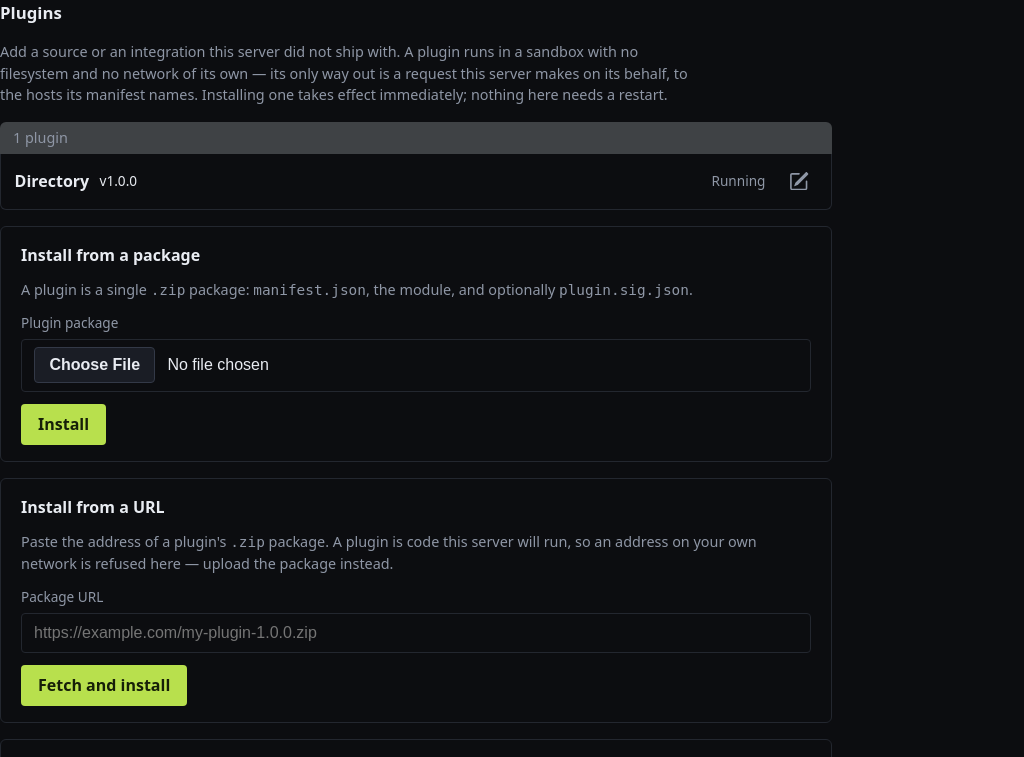
it: uninstalling a Sign-in provider › lists by name the users it will delete, says so plainly, and uninstalls nothing yet
This screenshot has width=1024, height=757.
Click the button with test id "plugin-edit-directory" at (799, 181), box [781,163,817,199]
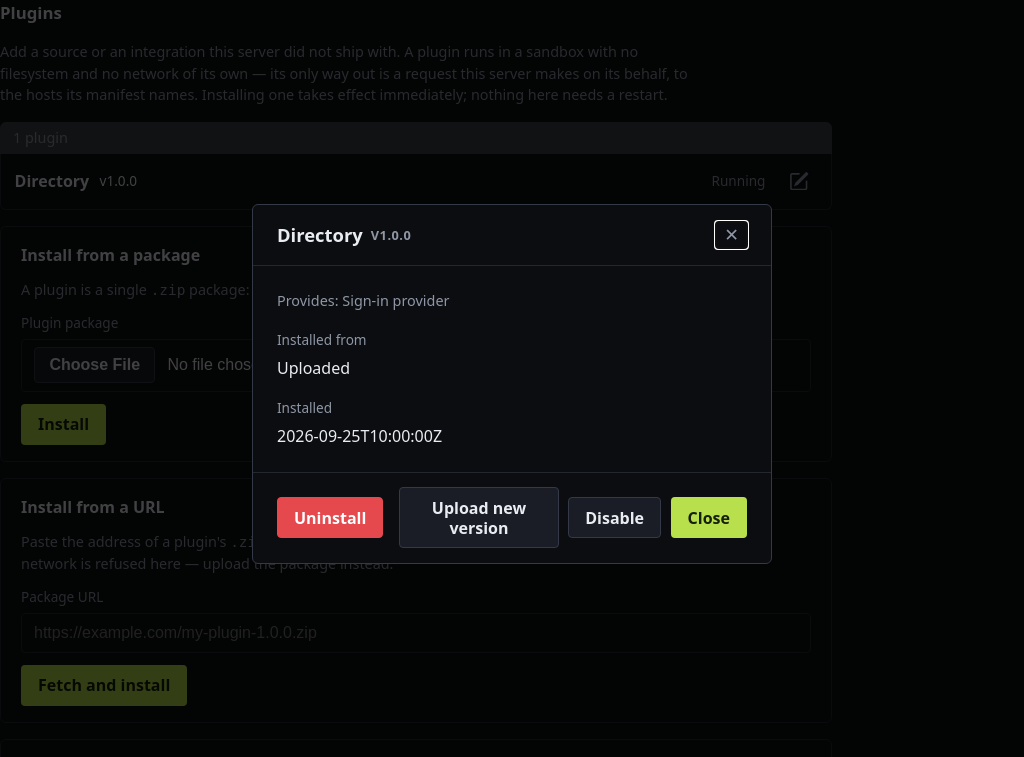
Click the button with test id "plugin-uninstall-directory" at (330, 518), box [277,497,383,538]
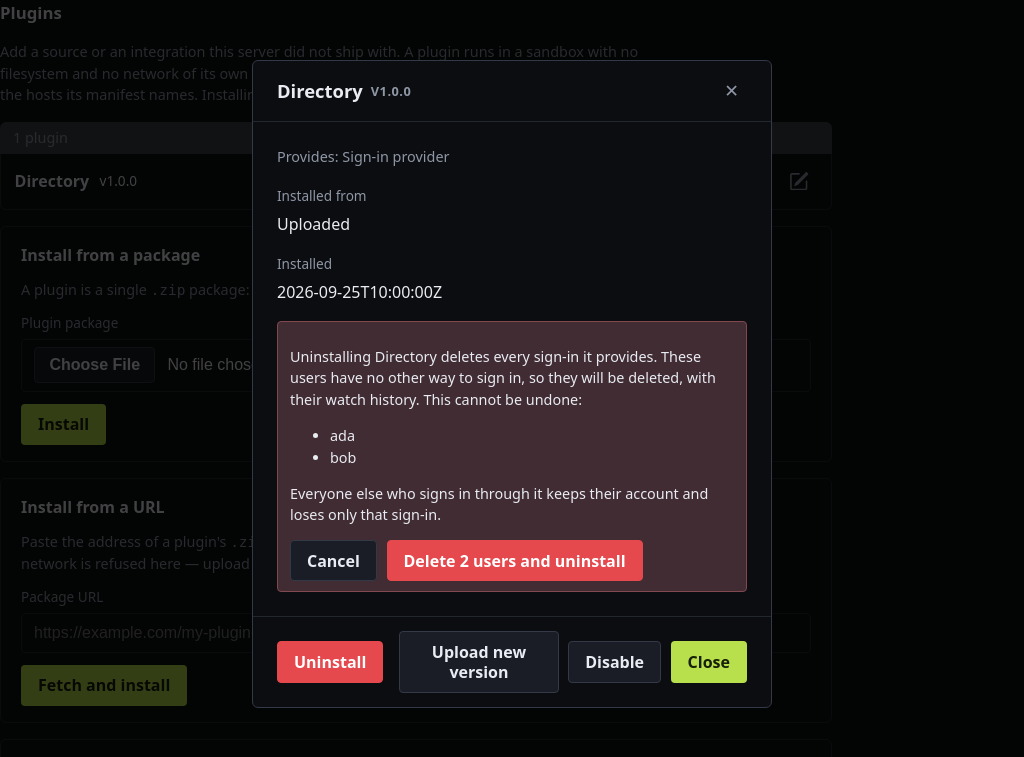
Now the element with test id "plugin-uninstall-confirmation-directory" shows "will be deleted", box [290,347,716,409]
Now the elements with test id "plugin-uninstall-user" read "ada", "bob", in this order, box [330,426,355,445]; [330,448,356,467]
